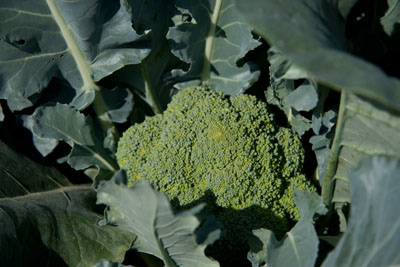broccoli: (116, 83, 318, 222)
